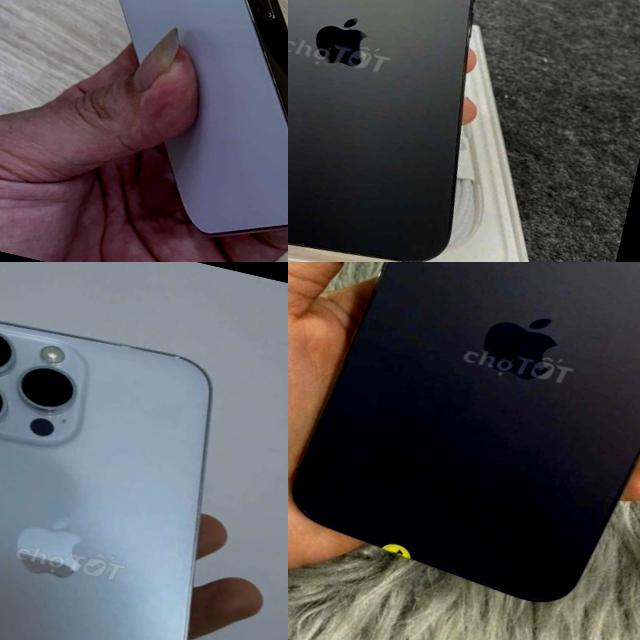gen_14: (288, 262, 640, 640), (0, 297, 279, 640), (0, 0, 288, 262)
gen_17: (288, 0, 547, 262)
